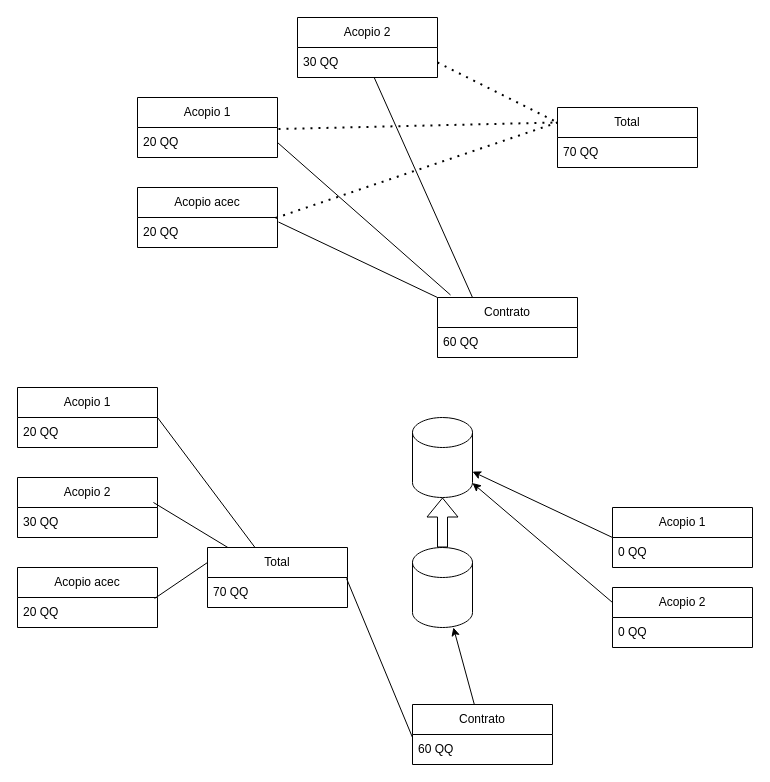
This 770x782 diagram has some shape labels left out. The centre of each missing label's shape, as x and y in pixels:
"10QQ" goes at [442,457].
"Acec -40 QQ" goes at [442,587].
